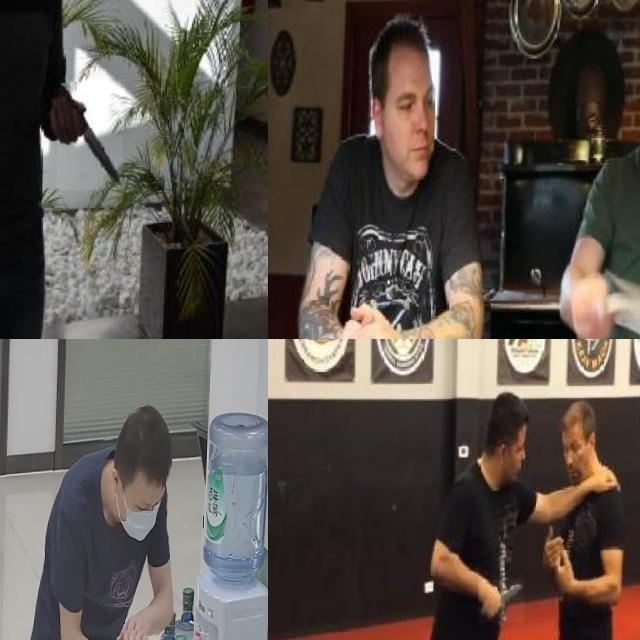-: (59, 80, 126, 191), (480, 580, 528, 623)
